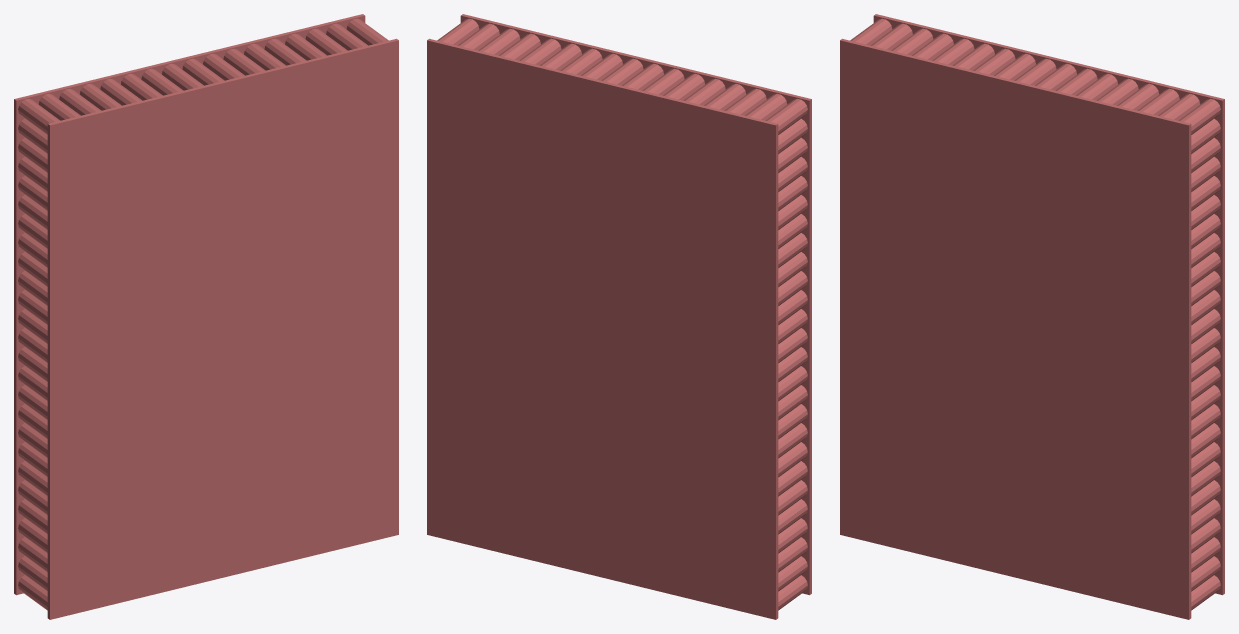
The model's file is BAT-TIER1.glb.
3 renders of one model, left to right at view 1: azimuth 30°, elevation 25°; view 2: azimuth 150°, elevation 25°; view 3: azimuth 330°, elevation 25°, orthographic.
Parts seen in each view (by area): view 1: geometry_0; view 2: geometry_0; view 3: geometry_0.
Boxes of the visible parts, x1=… form: geometry_0: x1=14, y1=14, x2=398, y2=619; geometry_0: x1=427, y1=14, x2=811, y2=619; geometry_0: x1=840, y1=14, x2=1224, y2=619.
Size of the model in its own units: 450 by 609 by 80.4.
